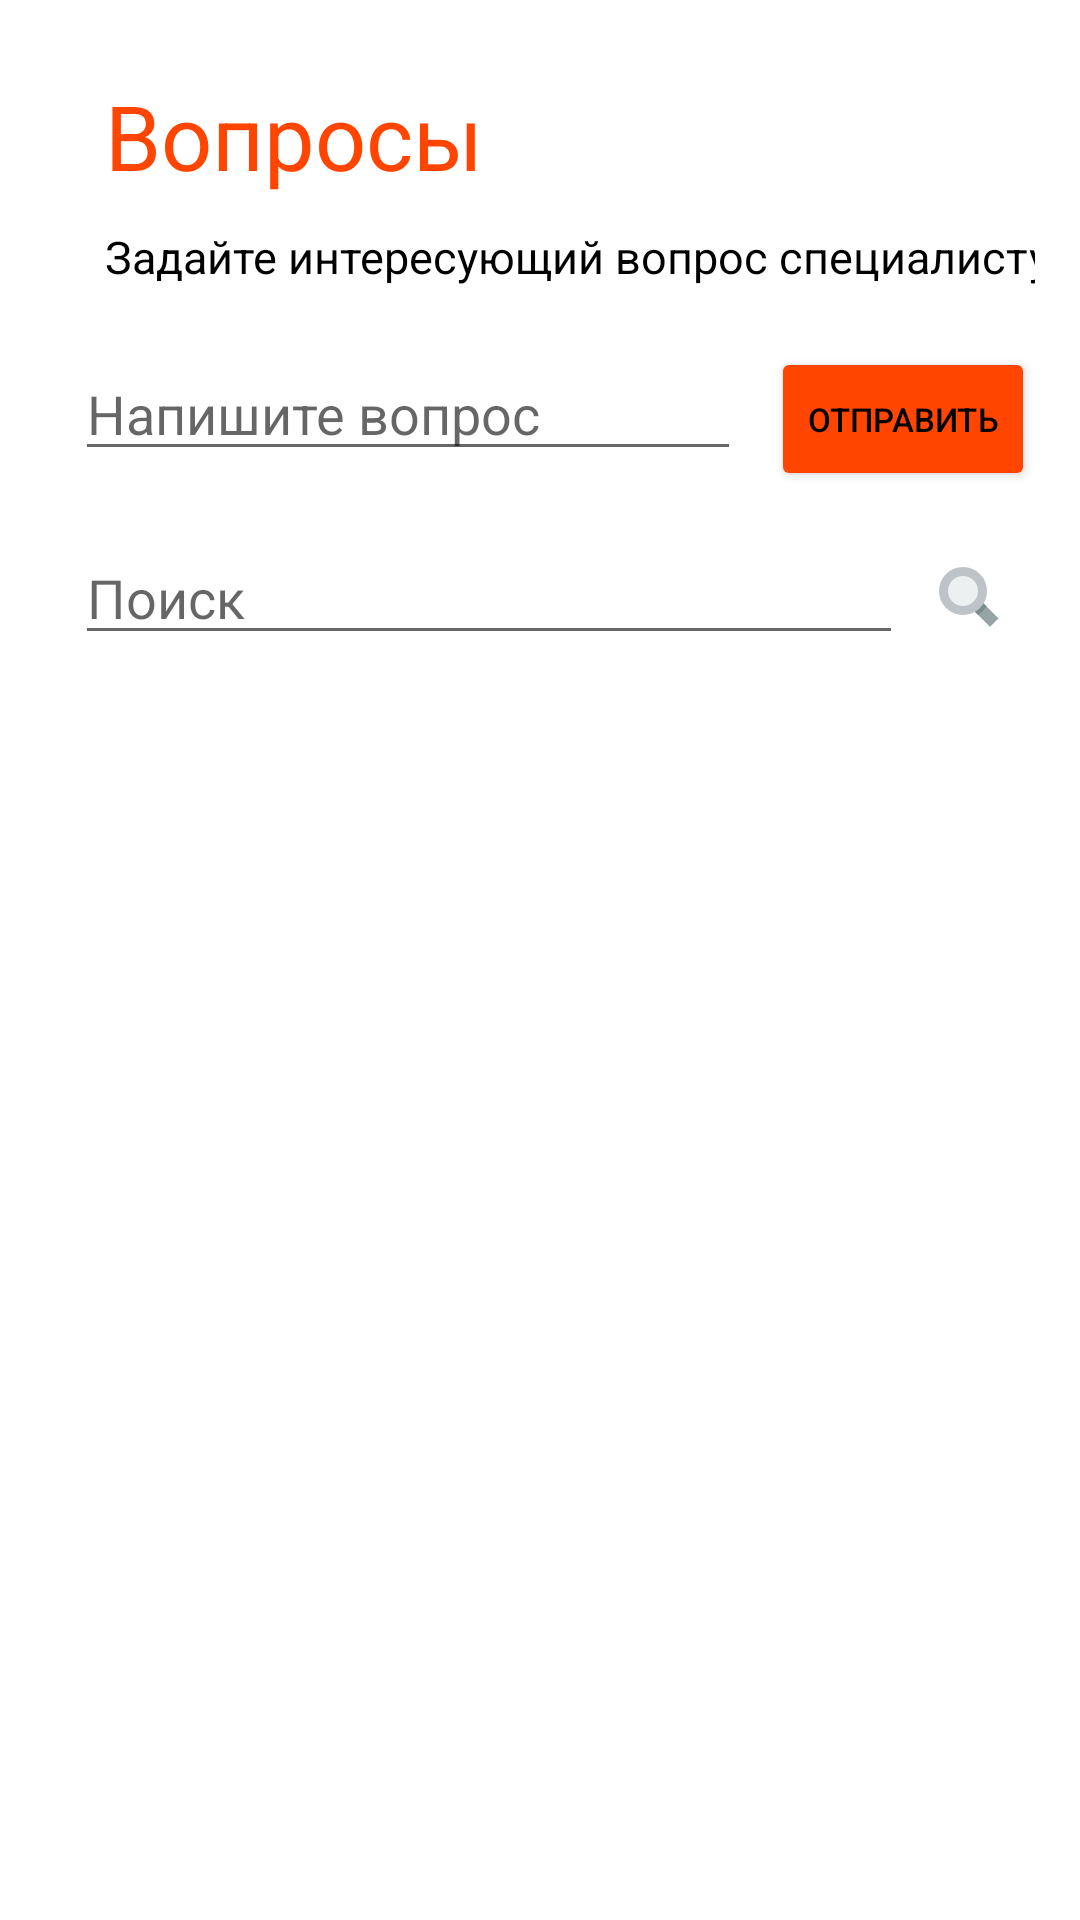

Locate icon controls on the screen. Image size 1080px×1920px, boxes as BBox(x1, y1, x2, y2).
search: BBox(939, 567, 999, 627)
